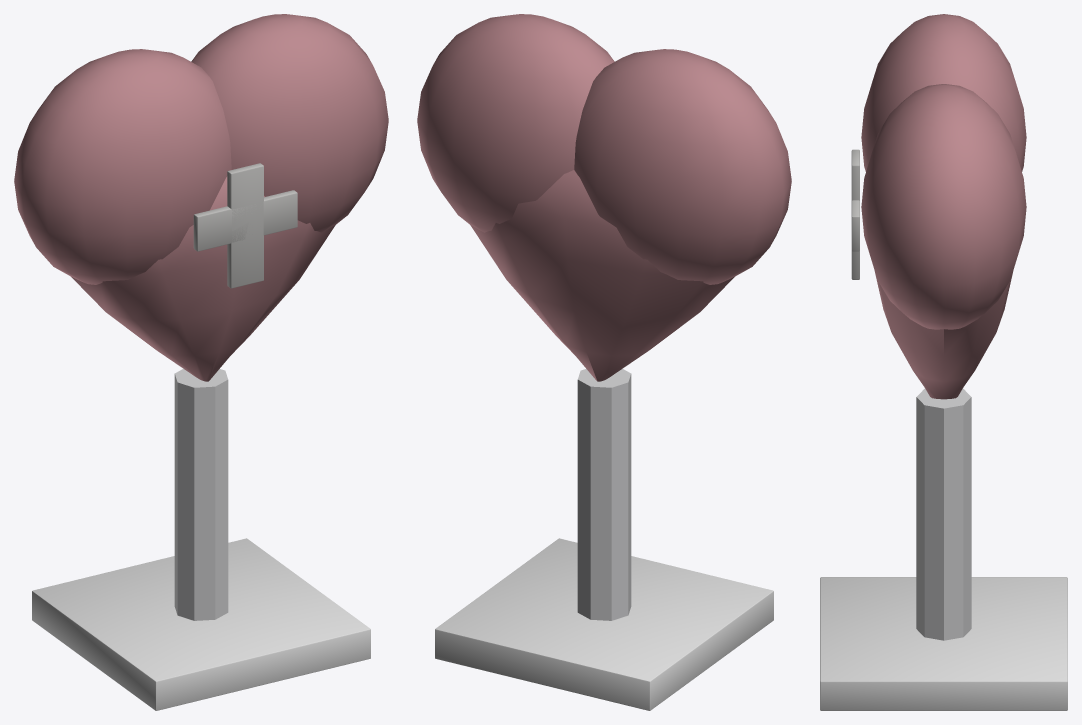
File: perk_quick_revive.gltf
The picture shows the model from 3 angles, left to right: view 1: azimuth 30°, elevation 25°; view 2: azimuth 150°, elevation 25°; view 3: azimuth 270°, elevation 25°; orthographic projection.
Parts seen in each view (by area): view 1: Body, Glow; view 2: Body; view 3: Body, Glow.
Part boxes in pixels (x1,y1,x2,y2): Body: (14,14,388,710); Glow: (193,163,297,288); Body: (417,14,791,710); Body: (820,14,1067,710); Glow: (851,149,859,279).
Bounding box in the file's own units: 1.5 × 2.4 × 0.9.
